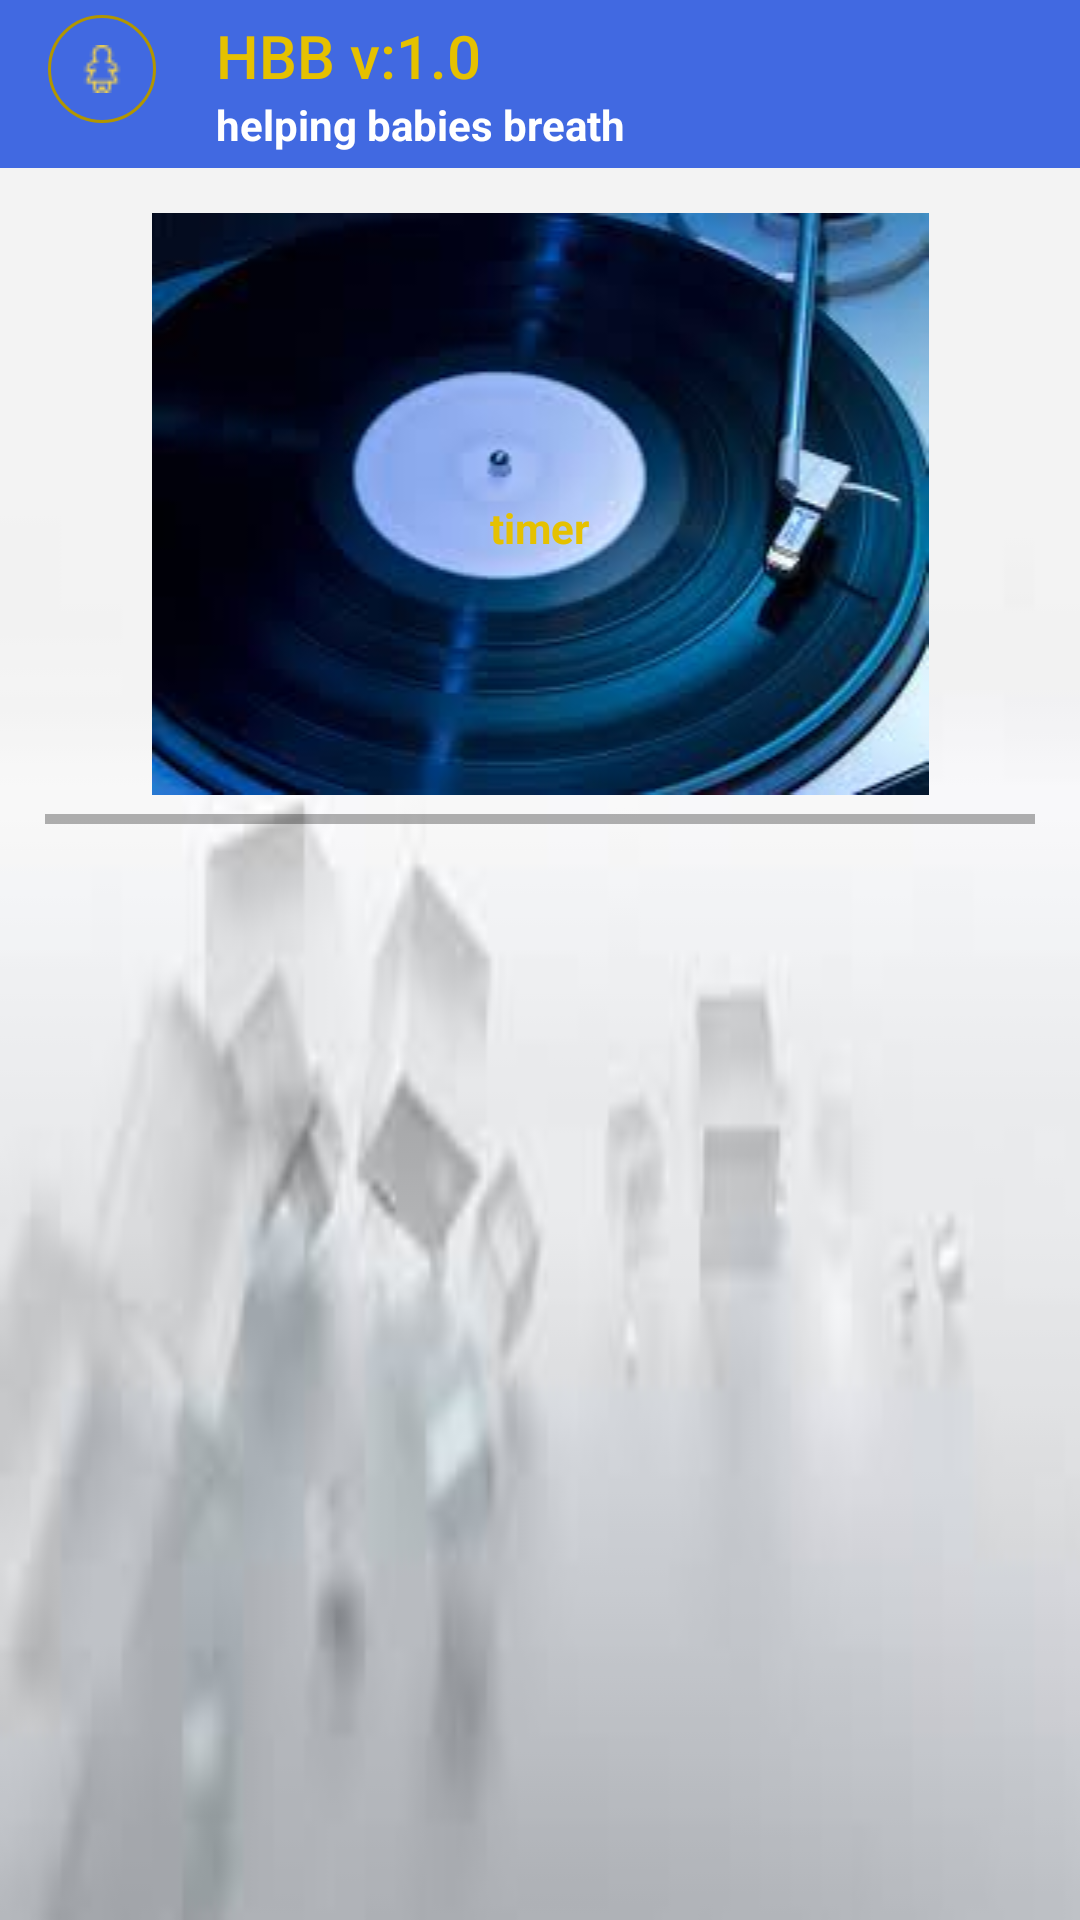

Where icons sit on this 1080 x 1920 app screen, as (x1, y1, x2, y2):
babe girl: (48, 15, 156, 123)
